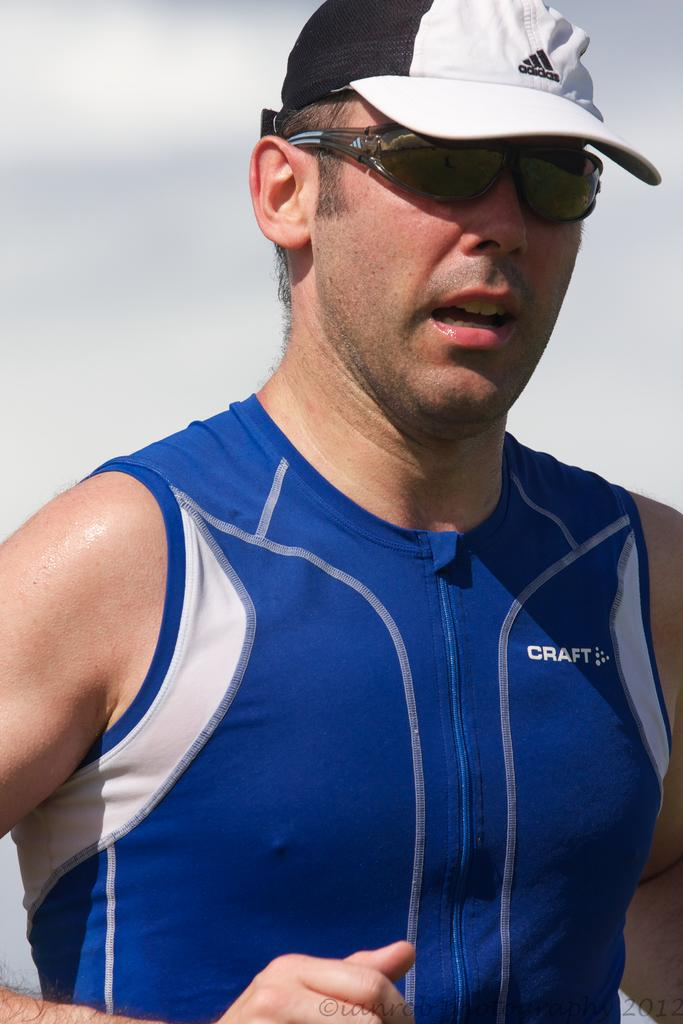Hat: (260, 0, 660, 188)
